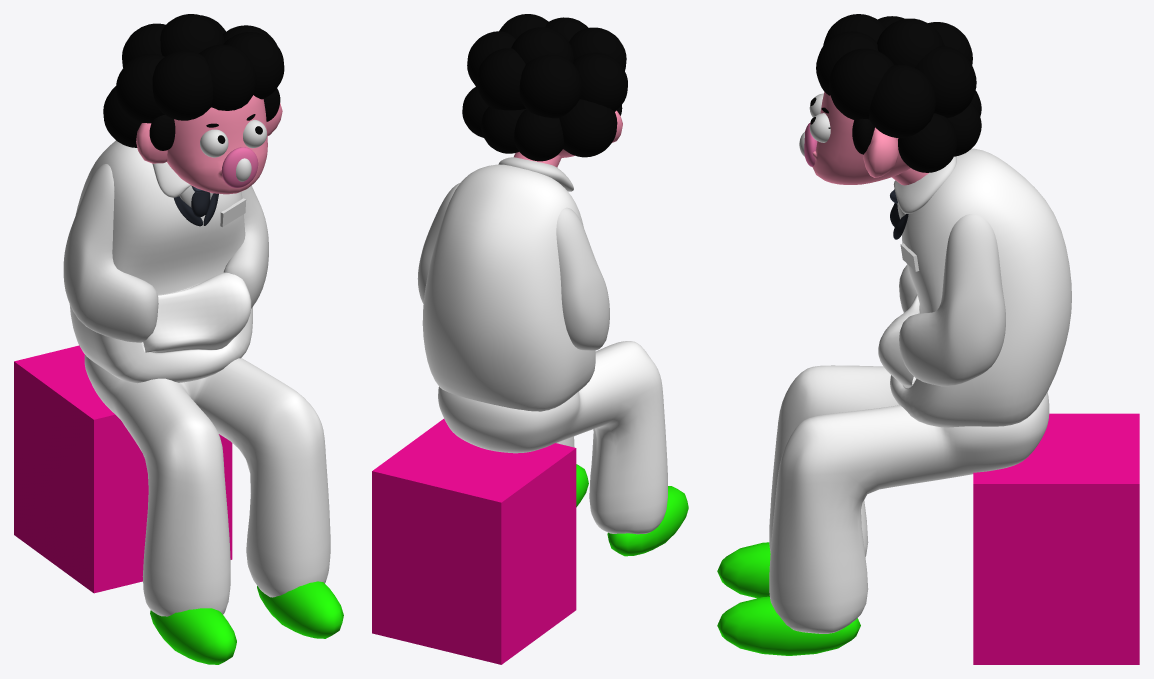
File: student_omg.glb
3 renders of one model, left to right at view 1: azimuth 30°, elevation 25°; view 2: azimuth 150°, elevation 25°; view 3: azimuth 270°, elevation 25°, orthographic. The views are drawn at different scales.
Parts seen in each view (by area): view 1: pCube10, pCube9, 1body1, hair, 3-2body, pCube1, pCube13, pCube12, 구체.010, 아이코스피어, 구체.005, 구체.008; view 2: pCube9, 1body1, pCube10, hair, 3-2body, pCube13, 아이코스피어; view 3: pCube9, pCube10, 1body1, hair, 3-2body, pCube1, pCube12, pCube13, 아이코스피어.
Part boxes in pixels (left/top/right/bottom): pCube10: left=84, top=342, right=330, bottom=616; pCube9: left=14, top=345, right=232, bottom=593; 1body1: left=69, top=140, right=252, bottom=383; hair: left=103, top=14, right=284, bottom=150; 3-2body: left=63, top=164, right=268, bottom=342; pCube1: left=136, top=95, right=282, bottom=194; pCube13: left=150, top=608, right=236, bottom=664; pCube12: left=257, top=581, right=343, bottom=638; 구체.010: left=221, top=147, right=258, bottom=187; 아이코스피어: left=152, top=162, right=190, bottom=197; 구체.005: left=200, top=129, right=228, bottom=157; 구체.008: left=243, top=119, right=266, bottom=148; pCube9: left=372, top=419, right=576, bottom=664; 1body1: left=422, top=164, right=595, bottom=411; pCube10: left=438, top=341, right=667, bottom=534; hair: left=462, top=14, right=627, bottom=161; 3-2body: left=417, top=182, right=609, bottom=350; pCube13: left=607, top=486, right=688, bottom=556; 아이코스피어: left=498, top=157, right=573, bottom=191; pCube9: left=973, top=413, right=1139, bottom=664; pCube10: left=769, top=365, right=1049, bottom=633; 1body1: left=878, top=148, right=1071, bottom=427; hair: left=816, top=14, right=981, bottom=172; 3-2body: left=899, top=214, right=1005, bottom=386; pCube1: left=812, top=92, right=928, bottom=185; pCube12: left=717, top=596, right=860, bottom=655; pCube13: left=717, top=542, right=770, bottom=598; 아이코스피어: left=893, top=156, right=956, bottom=213.
Size of the model in its own units: 0.4183 by 1.21 by 0.7618.
